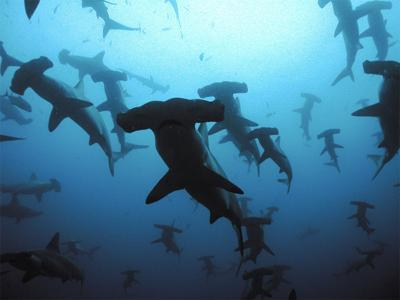Shark -Selachimorpha-: (112, 94, 246, 282), (8, 53, 130, 175), (191, 76, 268, 182), (1, 231, 90, 289), (244, 123, 298, 190), (0, 170, 65, 204), (312, 124, 350, 176), (293, 85, 325, 146), (150, 218, 188, 264), (349, 195, 377, 242), (117, 67, 169, 91), (60, 233, 101, 263)
